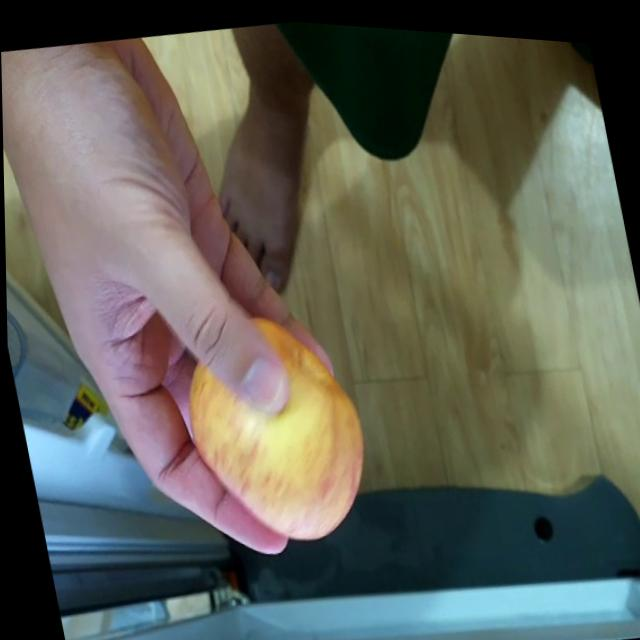apple: (169, 290, 380, 554)
